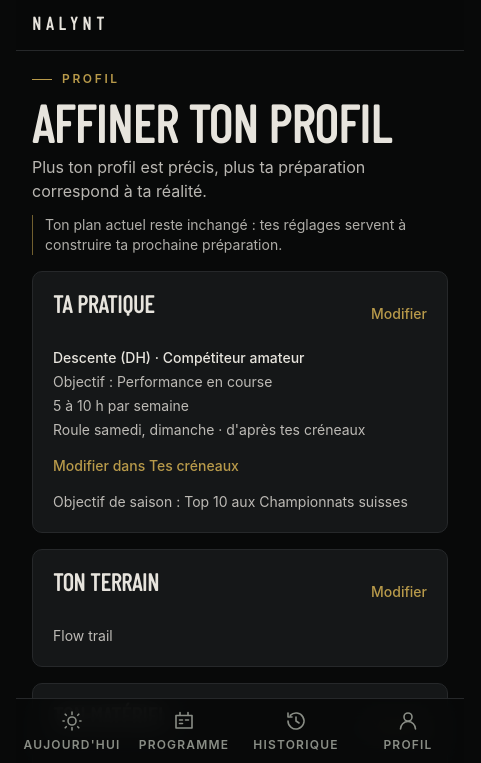
Scenario: Affiner ton profil — riding days come from the slots only › « Modifier dans Tes créneaux » opens the slots; once they are saved, the summary follows them (never the old column)
Step 1. Click the button "Modifier dans Tes créneaux" → (146, 466), box x1=53 y1=444 x2=239 y2=488
(page scrolled)
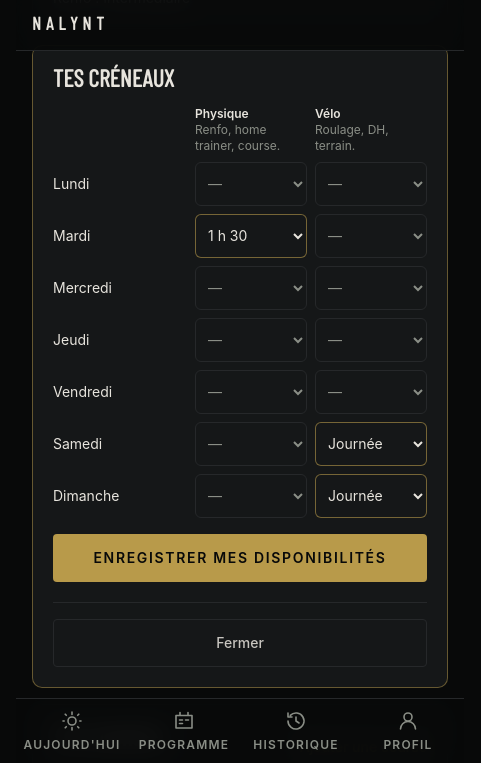
Result: the dropdown named "Physique — Lundi" is shown
Step 2. Select "2 h" in the dropdown named "Physique — Lundi" → (251, 184), box x1=195 y1=162 x2=307 y2=206
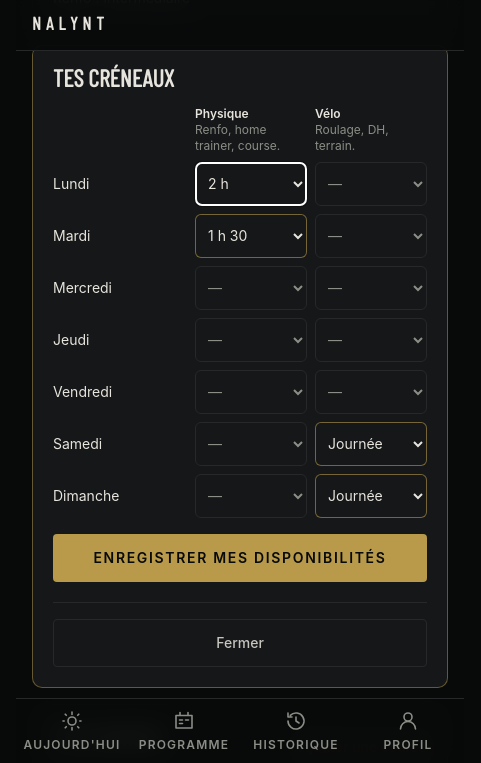
Step 3. Click the button "Enregistrer mes disponibilités" → (240, 558), box x1=53 y1=534 x2=427 y2=582
(page scrolled)
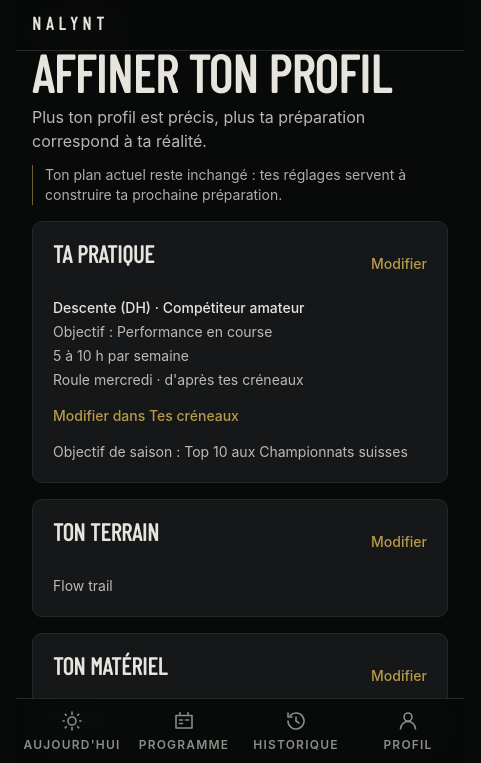
Result: the text "Roule mercredi · d'après tes créneaux" is shown at x1=53 y1=371 x2=304 y2=388
